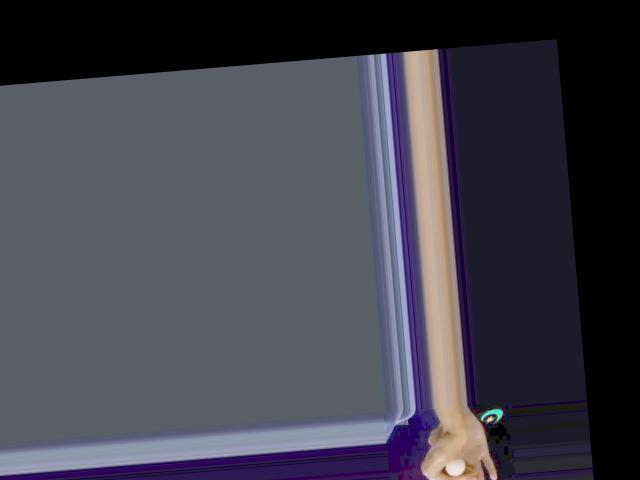egg: (443, 459, 466, 477)
